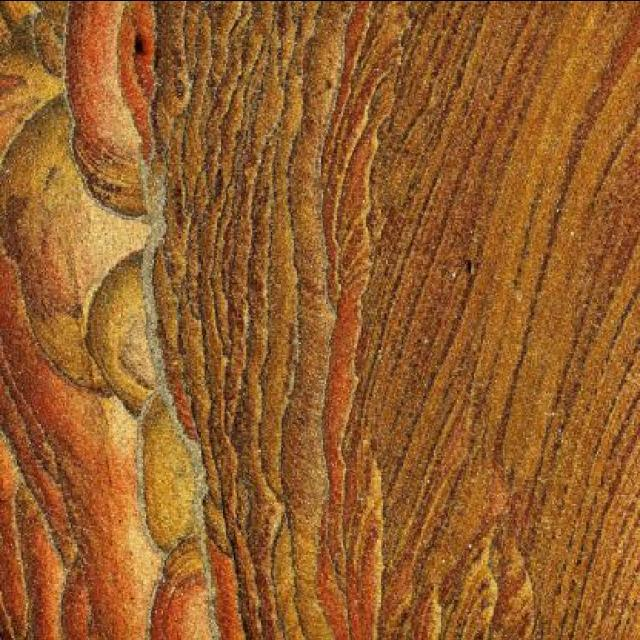Bread: (44, 12, 148, 218)
